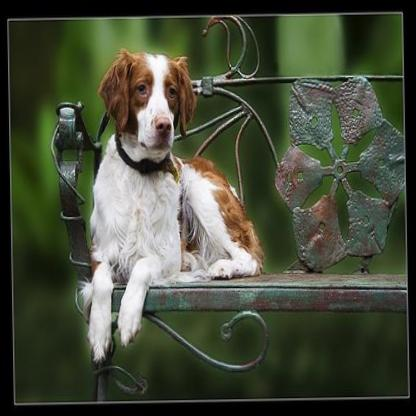Brittany_spaniel: (72, 41, 266, 362)
